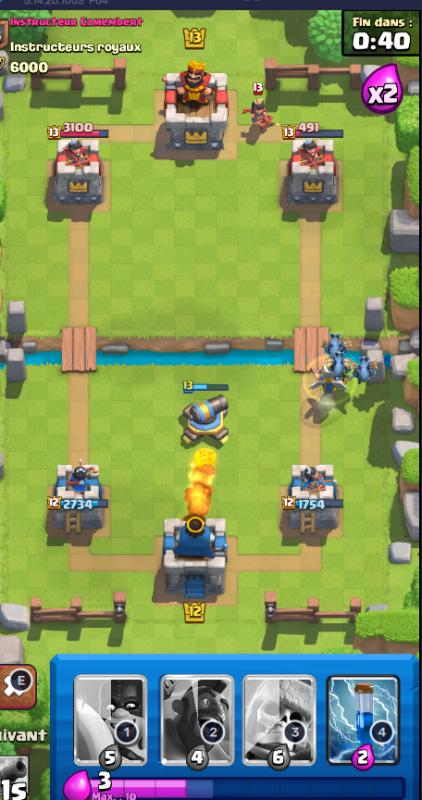gargouille: (326, 349, 349, 381), (324, 330, 348, 357), (354, 356, 373, 388)
